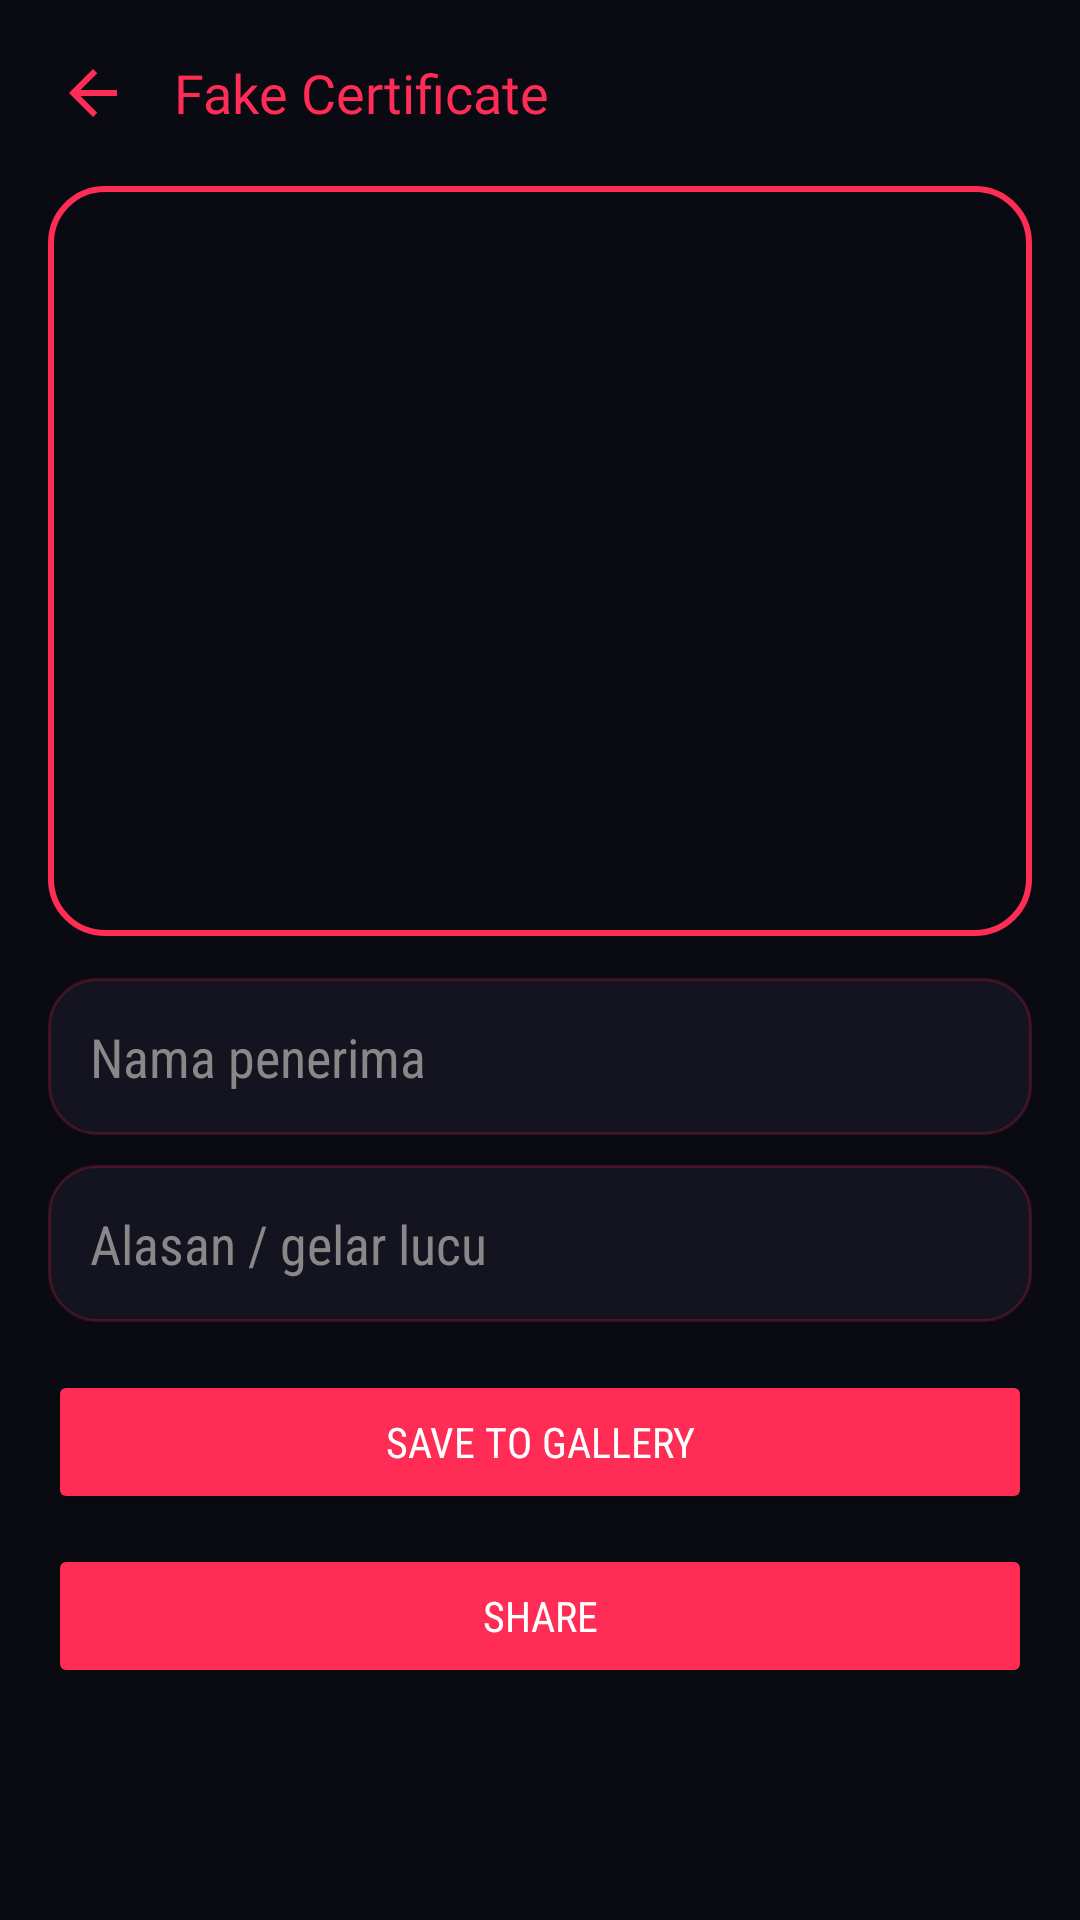

Icon click points for this 1080*1920 phone screenshot, format (x,y):
Back: (93,93)
